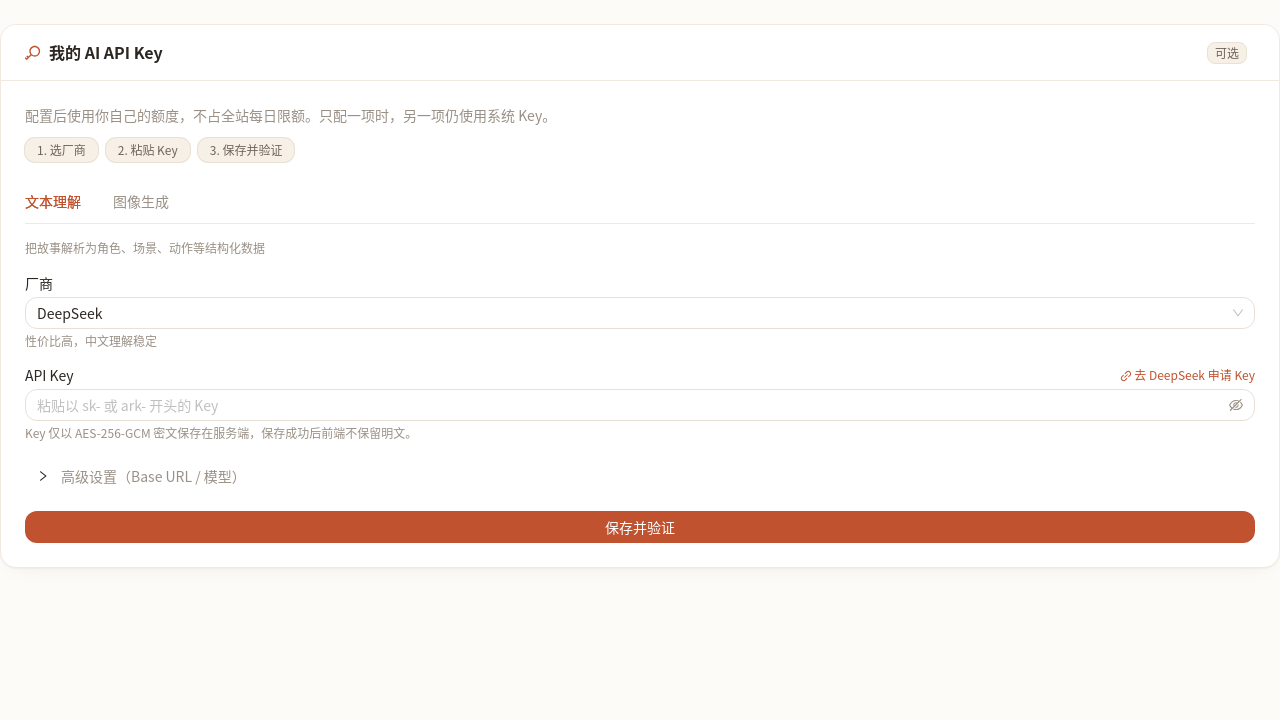
it: AiCredentialCard（BYOK 接入） › 测试成功但缺少验证票据时不保存
Expected: the text "我的 AI API Key" is shown, [49,40,163,64]
In the password field labelled "API Key": (631, 405) [37,394,1225,416], type "sk-new-key-123456"
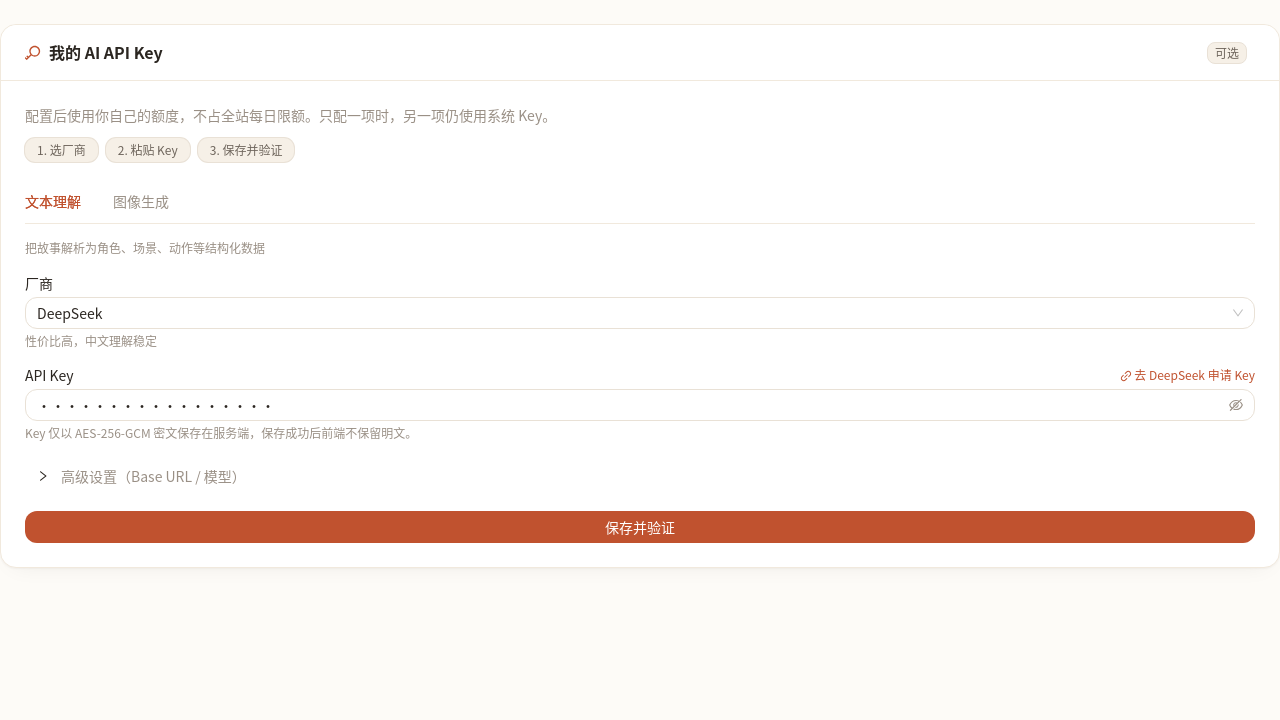
Click the button "保存并验证": (640, 527) [25,511,1255,543]
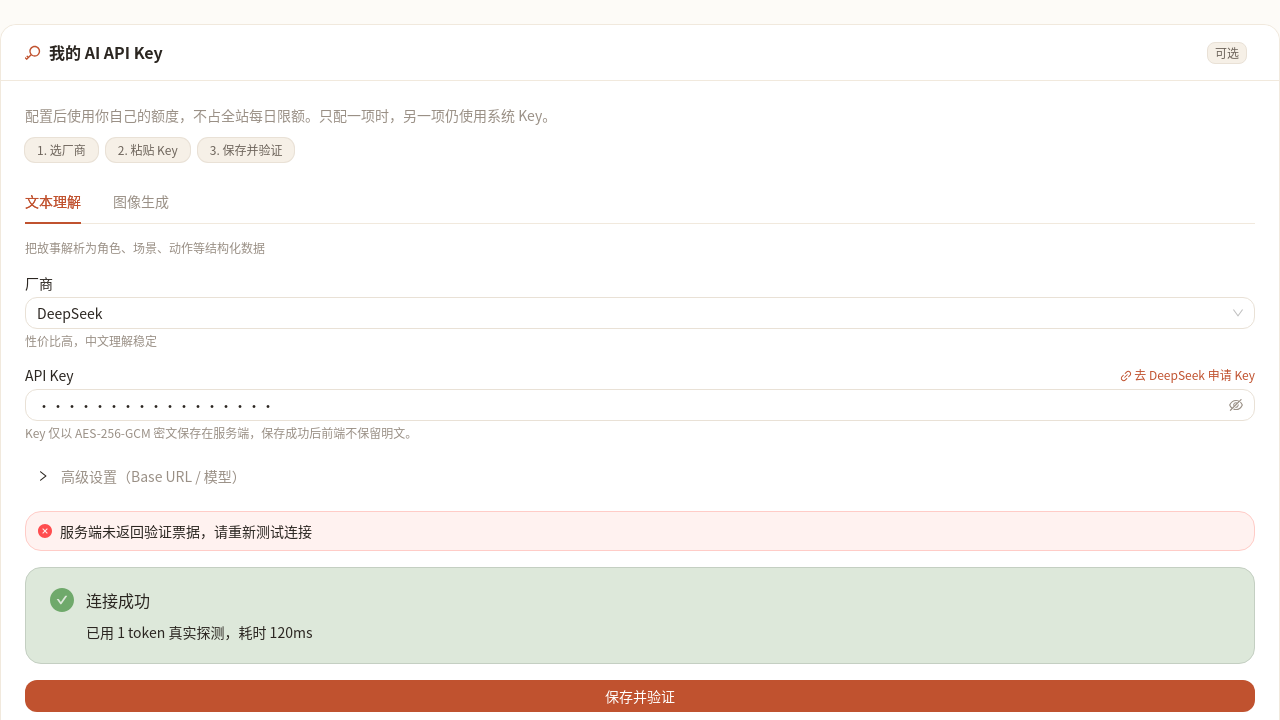
Expected: the text "服务端未返回验证票据，请重新测试连接" is shown, [60,521,312,541]
